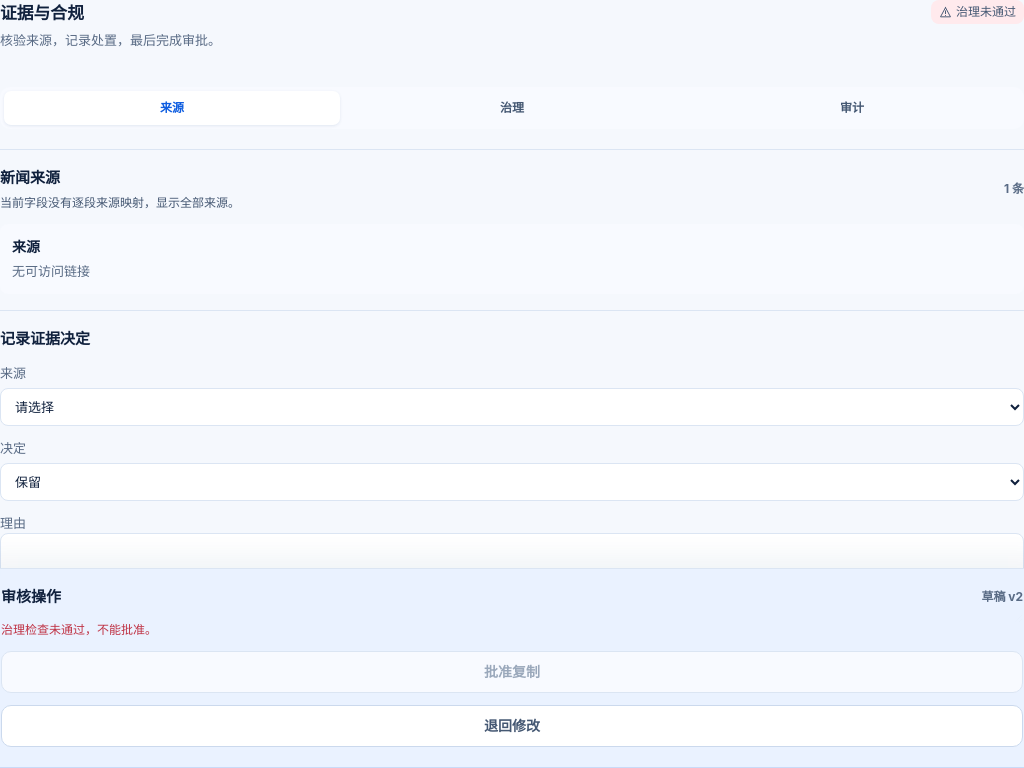
Test: explains why approval is blocked and keeps governance and audit reachable
Expected: the button "批准复制" is disabled, [1,651,1023,693]
Expected: the text "治理检查未通过，不能批准。" is shown, [1,622,157,637]
Click the tab "治理" at (512, 108), box [344,91,680,125]
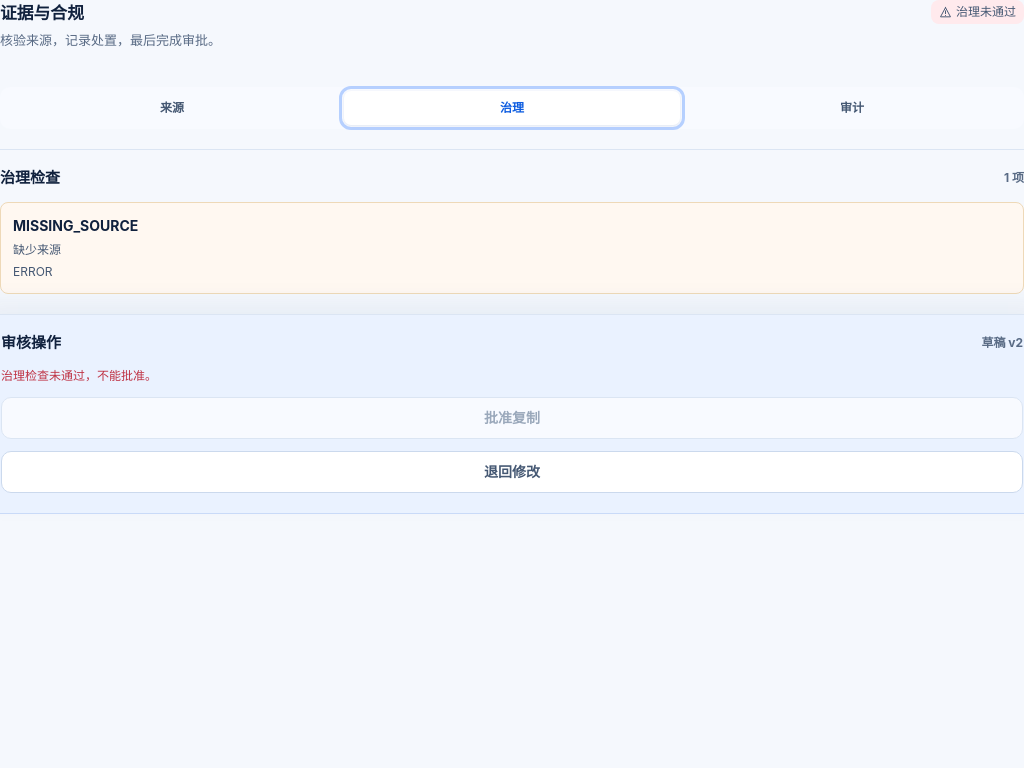
Expected: the text "缺少来源" is shown, [13,242,61,257]
Click the tab "审计" at (852, 108), box [684,91,1020,125]
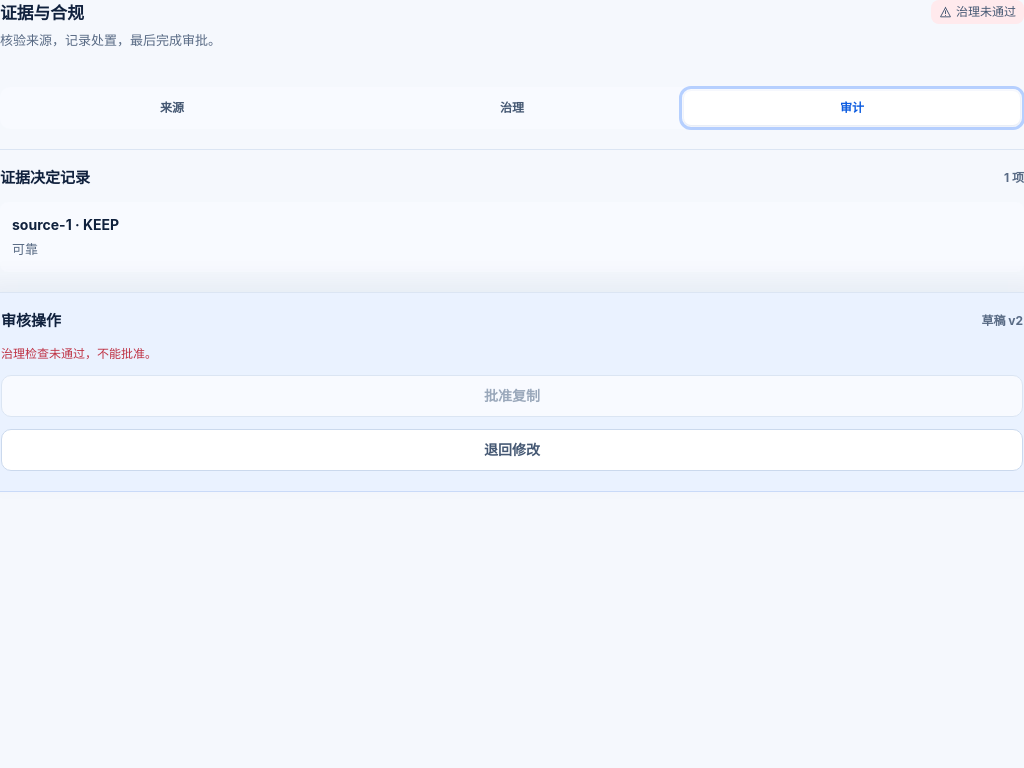
Expected: the text "可靠" is shown, [12,241,38,257]
